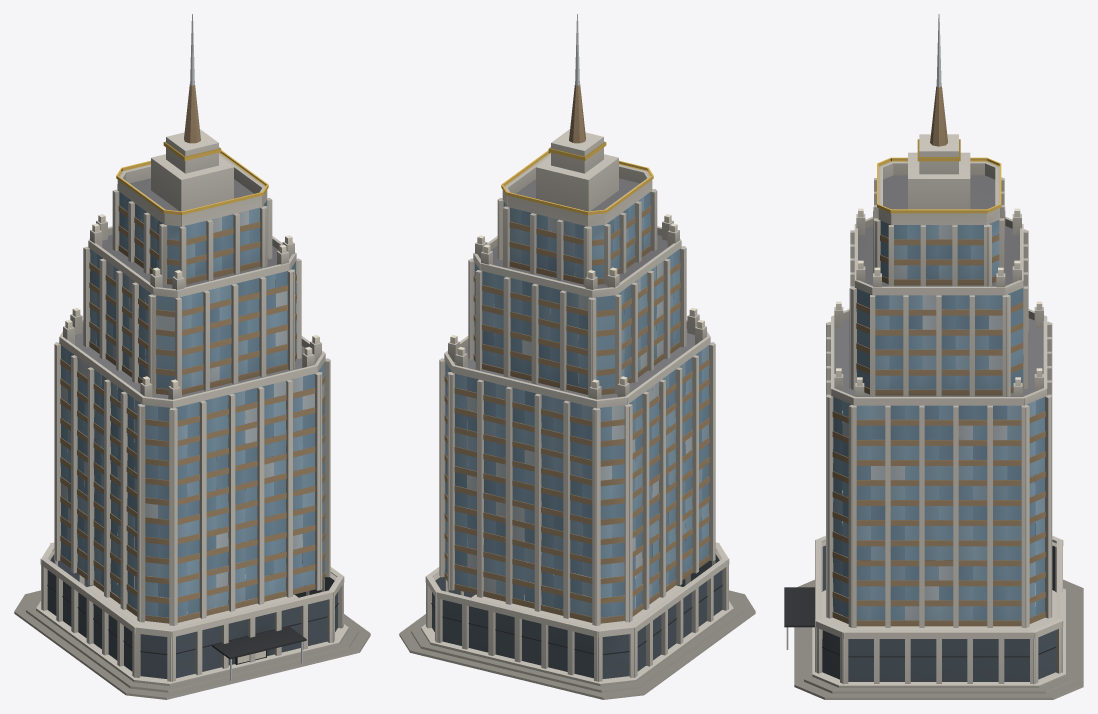
The picture shows the model from 3 angles, left to right: view 1: azimuth 30°, elevation 25°; view 2: azimuth 150°, elevation 25°; view 3: azimuth 270°, elevation 25°; orthographic projection. The views are drawn at different scales.
Parts seen in each view (by area): view 1: t6; view 2: t6; view 3: t6.
Boxes of the visible parts, left/top/right/bottom form: t6: left=14, top=14, right=370, bottom=699; t6: left=399, top=14, right=755, bottom=699; t6: left=784, top=14, right=1083, bottom=699.
Size of the model in its own units: 50.99 by 121 by 52.8.
